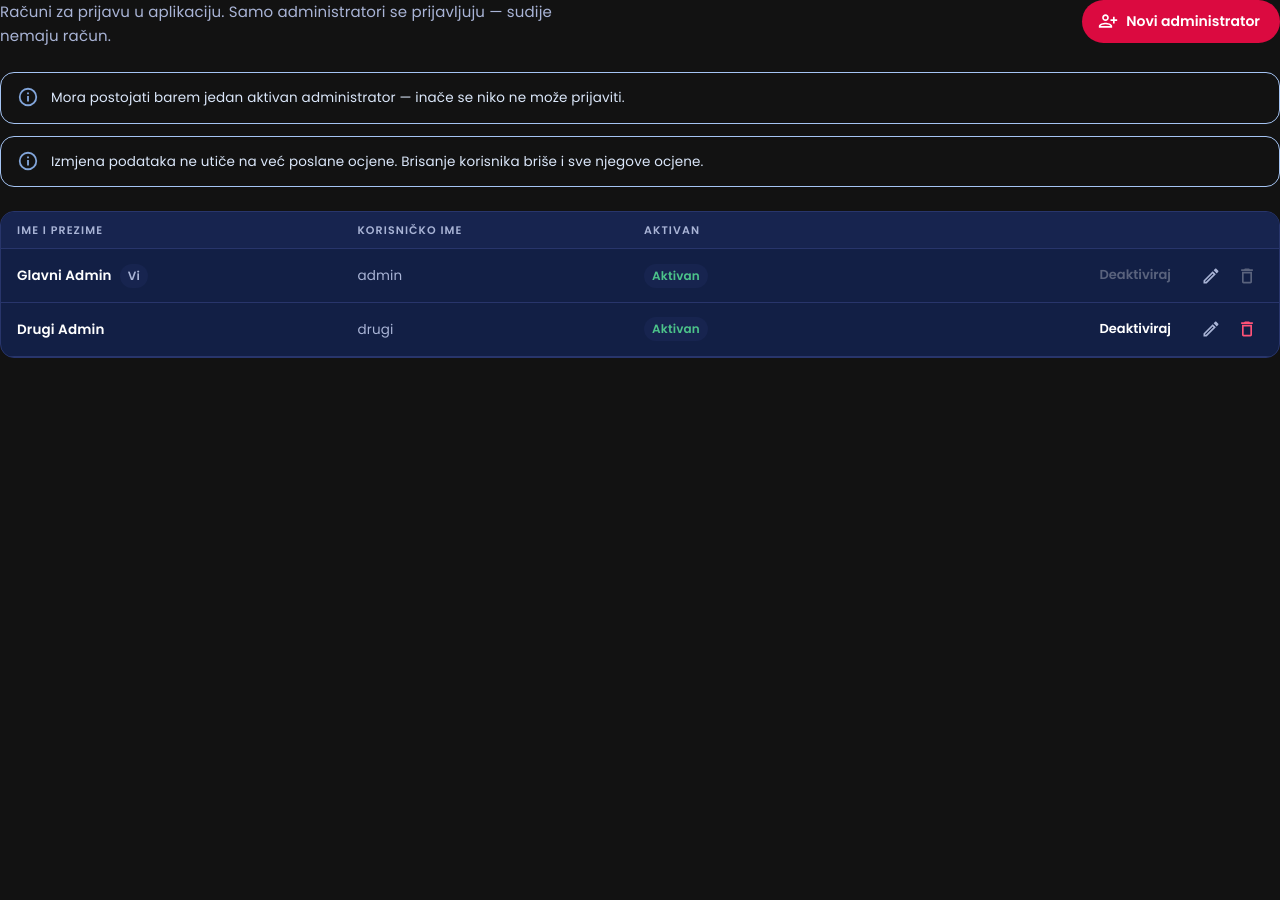
Test: UsersTab › opens the edit dialog filled with that row
This screenshot has width=1280, height=900.
Expected: the text "Drugi Admin" is shown, x1=1 y1=302 x2=342 y2=356
Click the button named "Izmijeni": (1211, 329) x1=1195 y1=313 x2=1227 y2=345
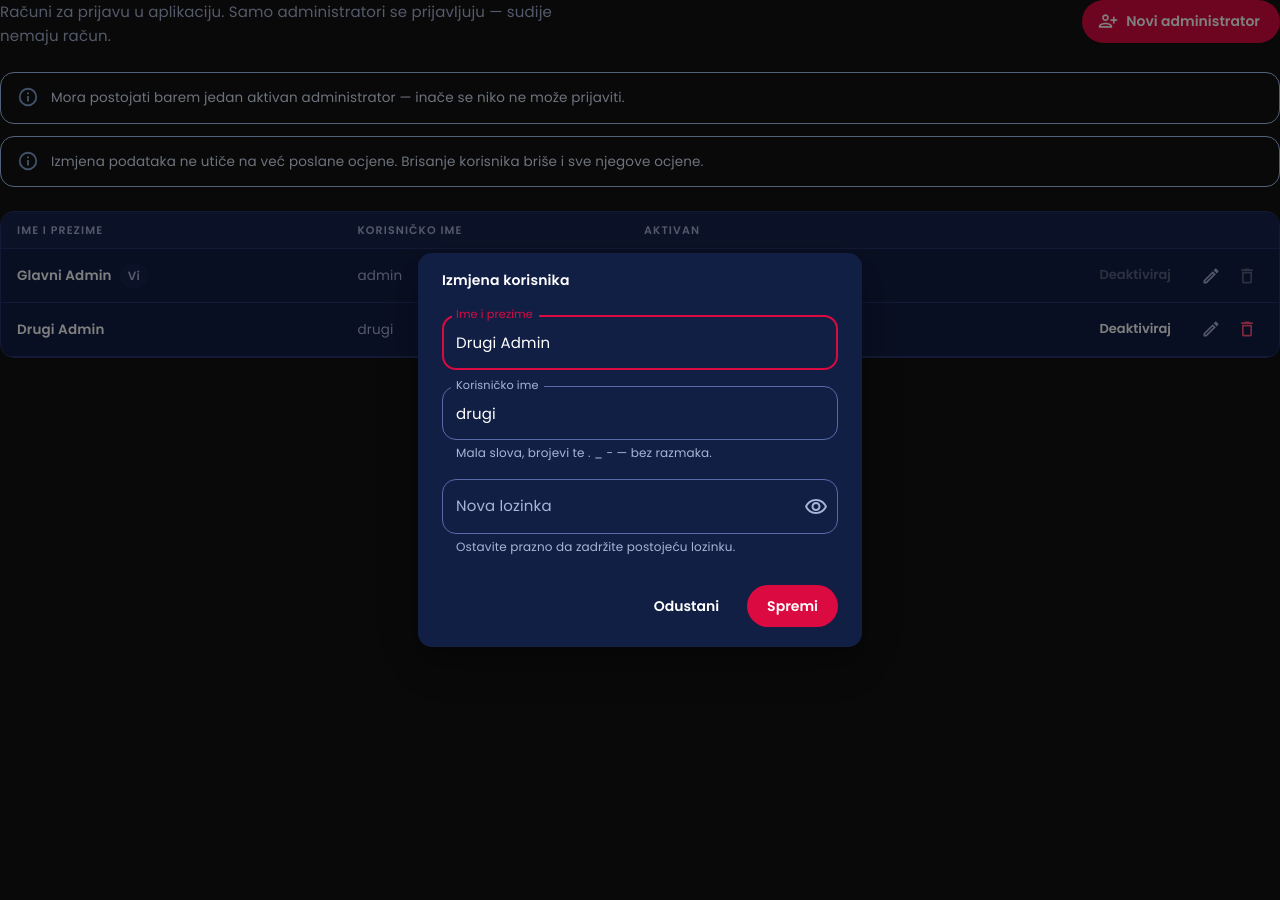
Expected: the field labelled "Ime i prezime" holds "Drugi Admin", x1=442 y1=315 x2=838 y2=370
